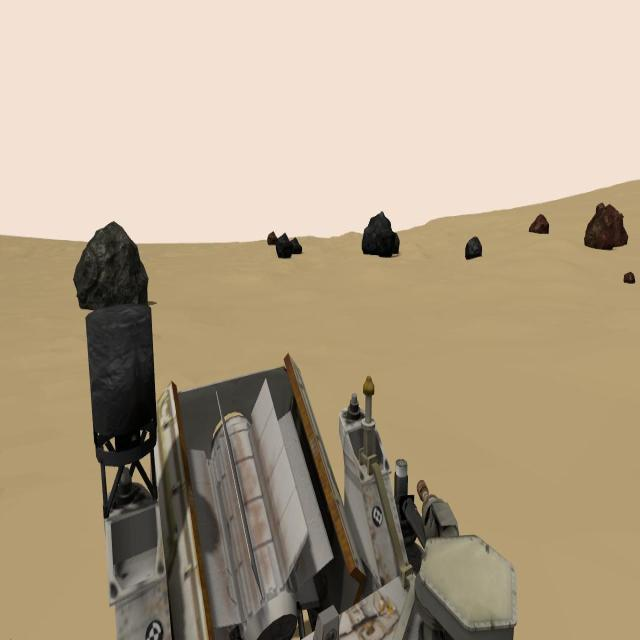rock: (73, 220, 149, 312), (362, 209, 391, 257), (584, 205, 612, 249), (606, 203, 628, 247), (379, 229, 400, 258), (529, 213, 550, 235), (465, 236, 482, 261), (276, 232, 292, 258), (290, 235, 302, 255), (266, 230, 277, 246), (623, 270, 635, 284), (596, 202, 604, 212)
